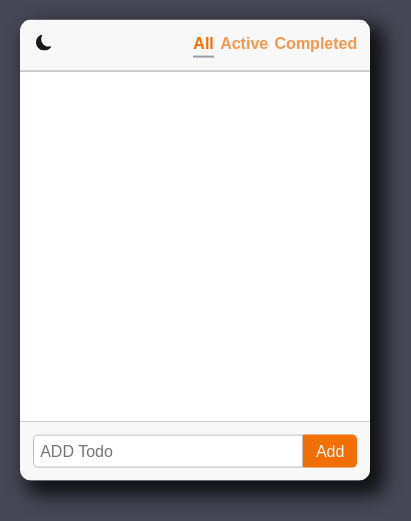
Test: to-do list App › adds an item
Type "Studying React" into the field with placeholder "ADD Todo" at (168, 452), box [33, 435, 303, 468]
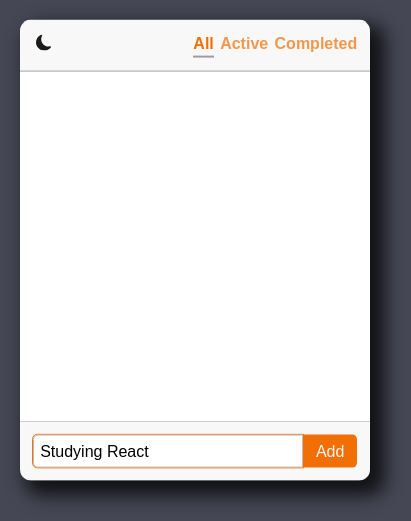
Click the button titled "add button" at (330, 452), box [303, 435, 357, 468]
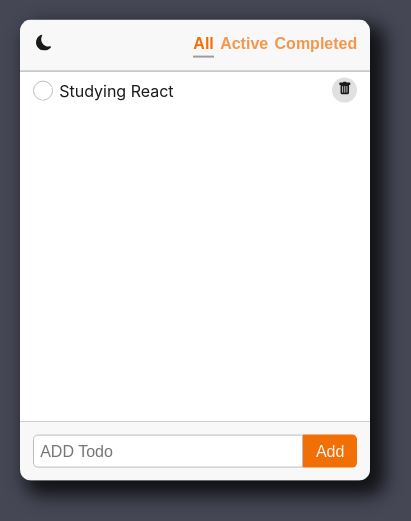
Check: the checkbox is shown, box [33, 80, 53, 100]
Check: the text "Studying React" is shown, box [59, 80, 174, 100]
Check: the button titled "delete button" is shown, box [332, 78, 357, 103]
